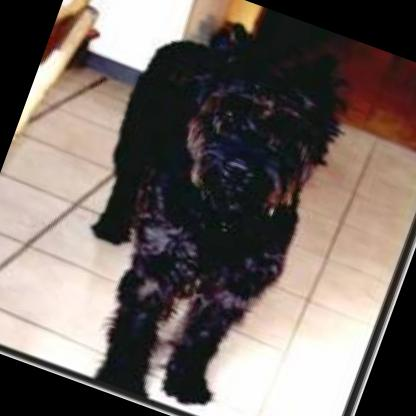Bouvier_des_Flandres: (27, 0, 367, 416)
